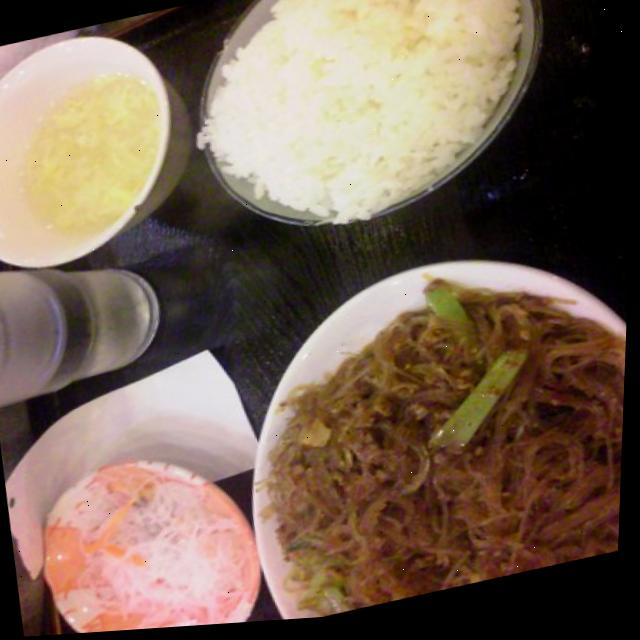汤锅炖物: (0, 20, 202, 286)
米饭主食: (172, 0, 577, 266)
